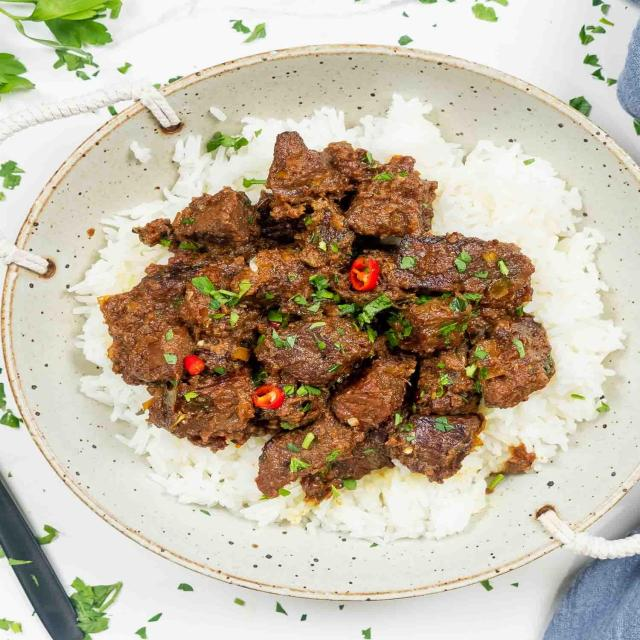Rendang: (98, 148, 564, 502)
